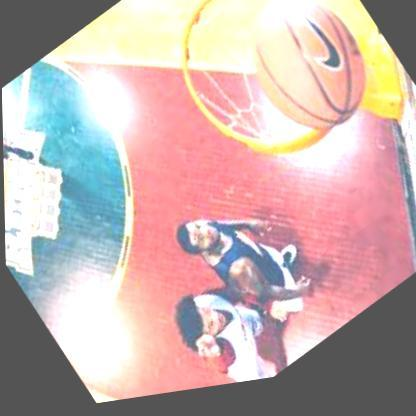basketball: (228, 0, 388, 167)
rim: (149, 0, 385, 214)
